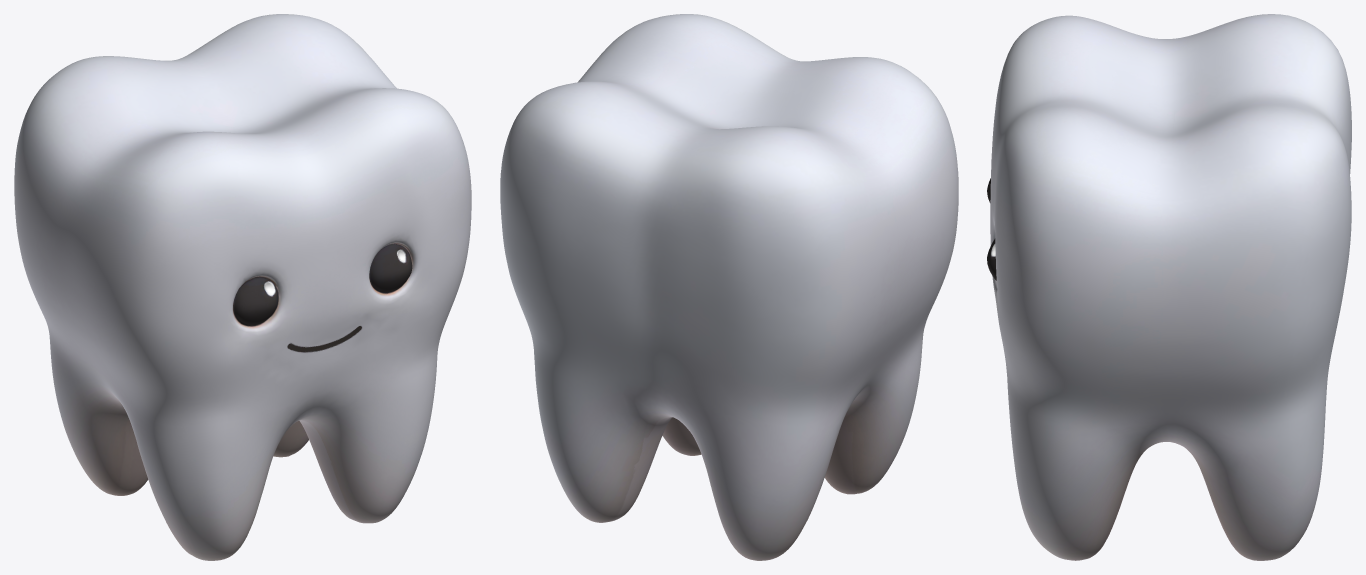
Rendered from zub2.glb.
3 renders of one model, left to right at view 1: azimuth 30°, elevation 25°; view 2: azimuth 150°, elevation 25°; view 3: azimuth 270°, elevation 25°, orthographic. The views are drawn at different scales.
Parts seen in each view (by area): view 1: part_0000.001; view 2: part_0000.001; view 3: part_0000.001.
Part boxes in pixels (x1,y1,x2,y2): part_0000.001: (14,14,471,560); part_0000.001: (500,14,958,560); part_0000.001: (987,14,1351,560).
Bounding box in the file's own units: 0.8596 × 0.9557 × 0.7146.
1 material, 1 textured.
